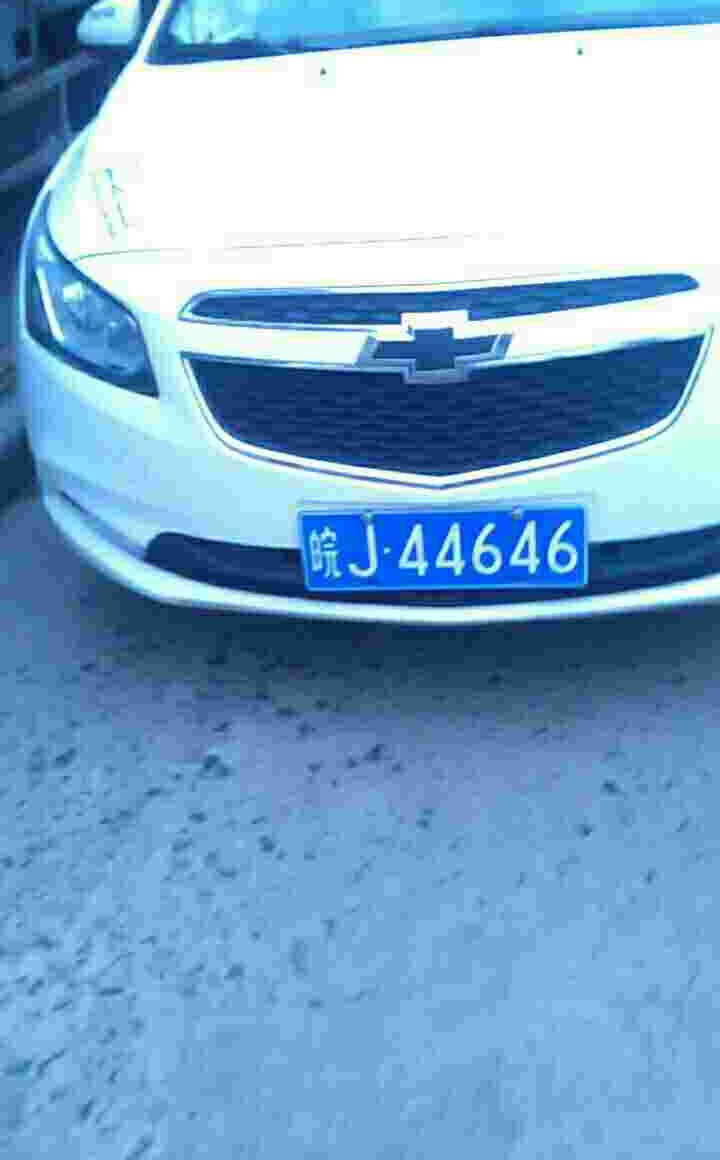license_plate: (295, 506, 588, 603)
